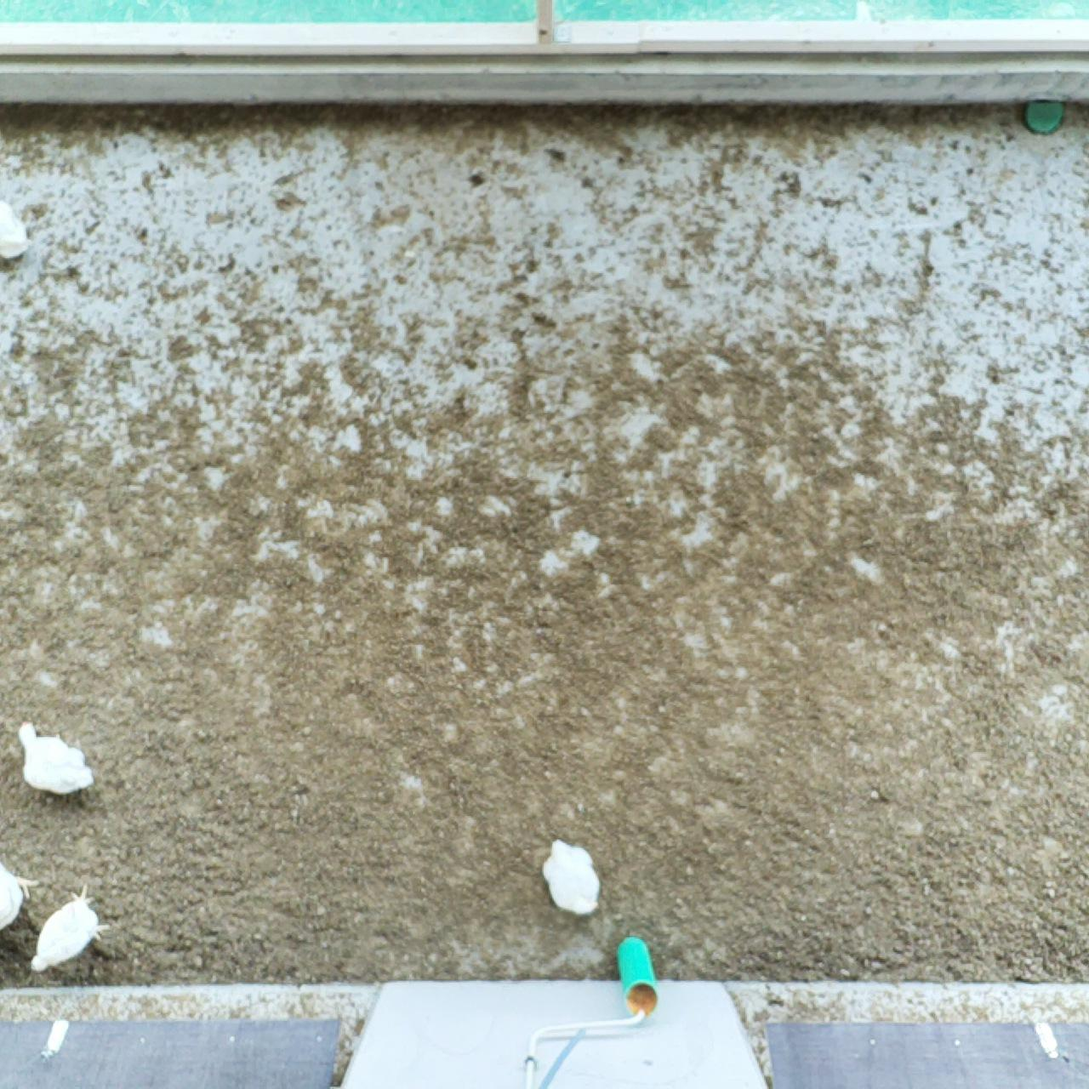chicken: (29, 883, 105, 974), (9, 719, 97, 797), (538, 835, 603, 919), (0, 845, 36, 941), (0, 196, 33, 263)
